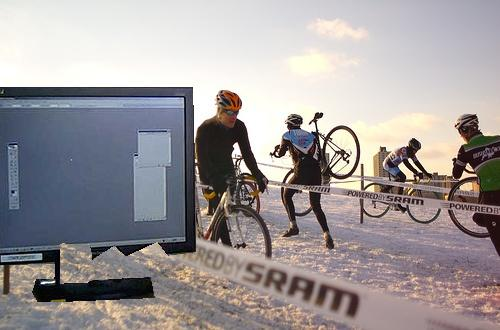tampered: (1, 88, 196, 302)
